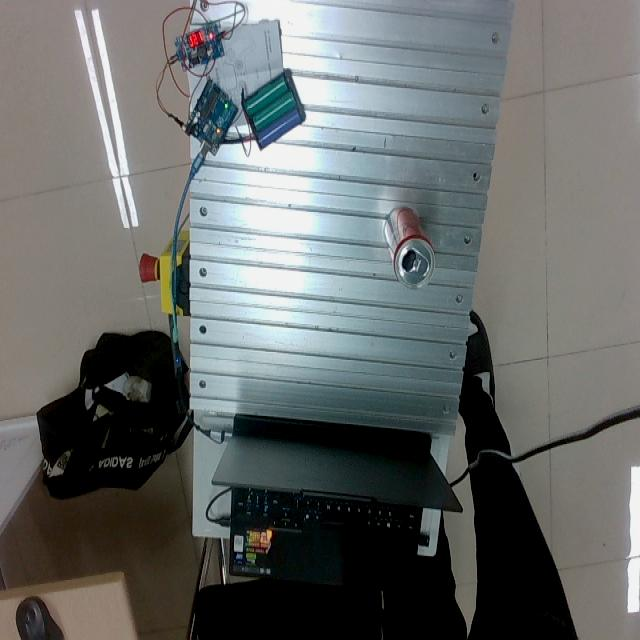coca: (385, 207, 435, 289)
